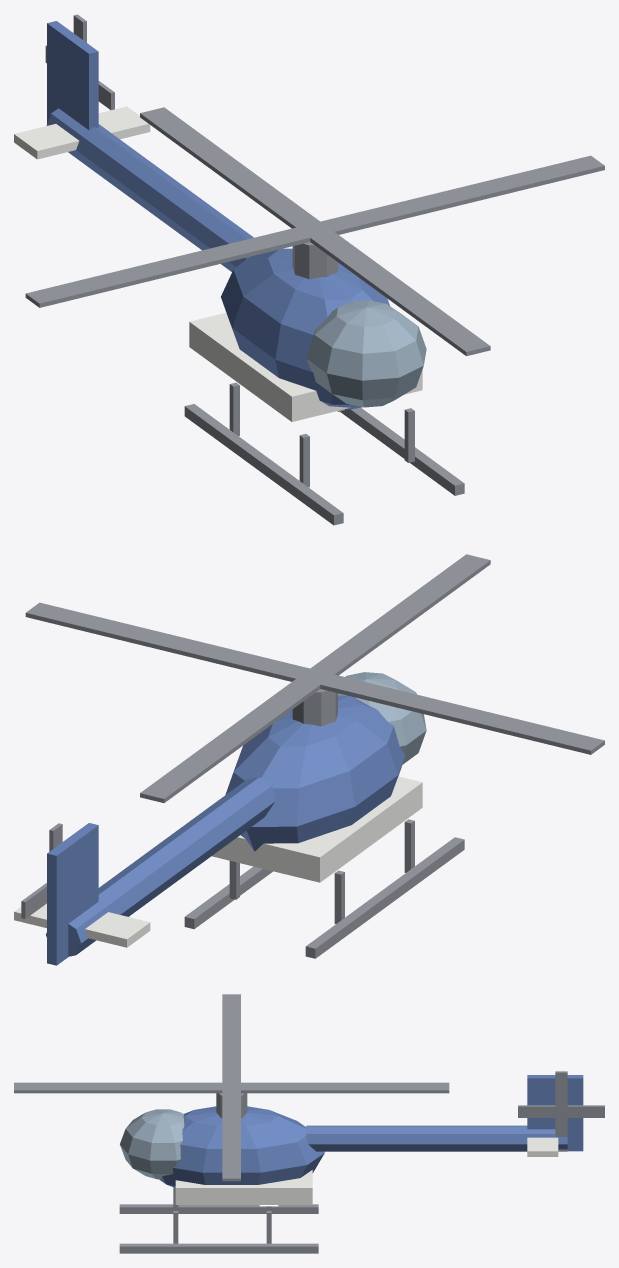
Rendered from helicopter.glb.
3 renders of one model, top to bottom at view 1: azimuth 30°, elevation 25°; view 2: azimuth 150°, elevation 25°; view 3: azimuth 270°, elevation 25°, orthographic. The views are drawn at different scales.
Visible parts, largest first — view 1: helicopter, rotor, tail_rotor; view 2: helicopter, rotor, tail_rotor; view 3: helicopter, rotor, tail_rotor.
Boxes of the visible parts, x1,y1,x2,y2 form: helicopter: (14,21,464,525); rotor: (25,107,604,356); tail_rotor: (45,14,114,110); helicopter: (14,672,464,965); rotor: (25,554,604,802); tail_rotor: (21,823,62,918); helicopter: (119,1075,583,1253); rotor: (14,994,449,1181); tail_rotor: (518,1071,604,1151).
Bounding box in the file's own units: 7 × 2.91 × 9.5.
